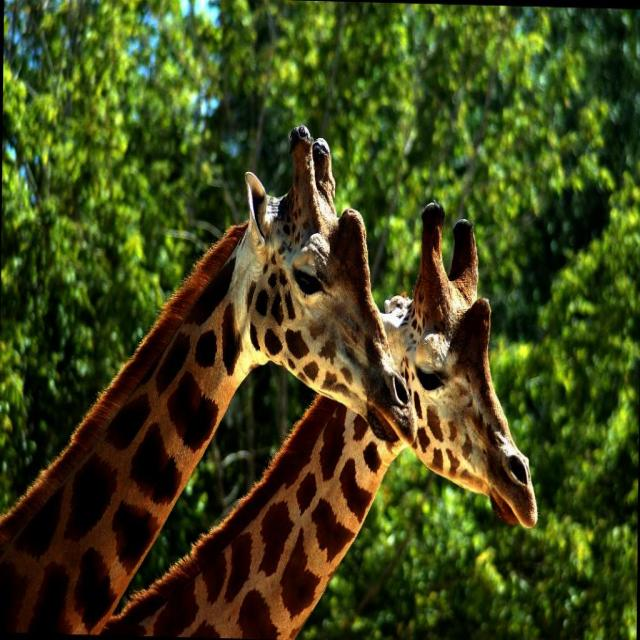Giraffe: (0, 116, 420, 626)
